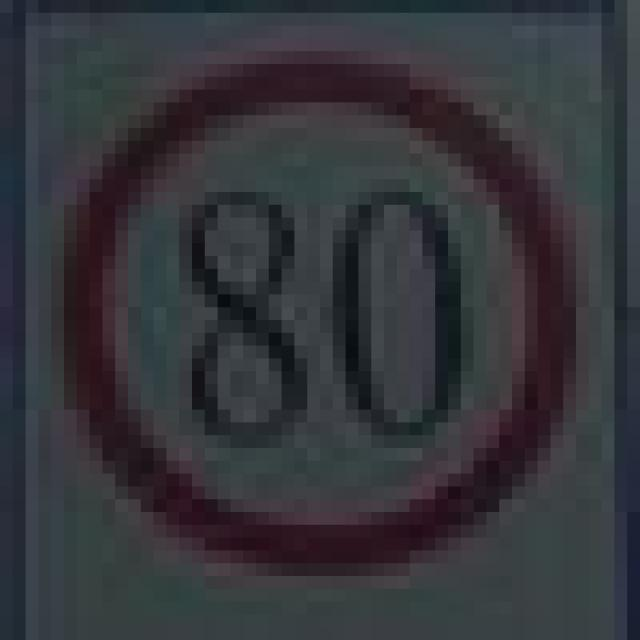SPEED_LIMIT_80: (51, 51, 563, 563)
